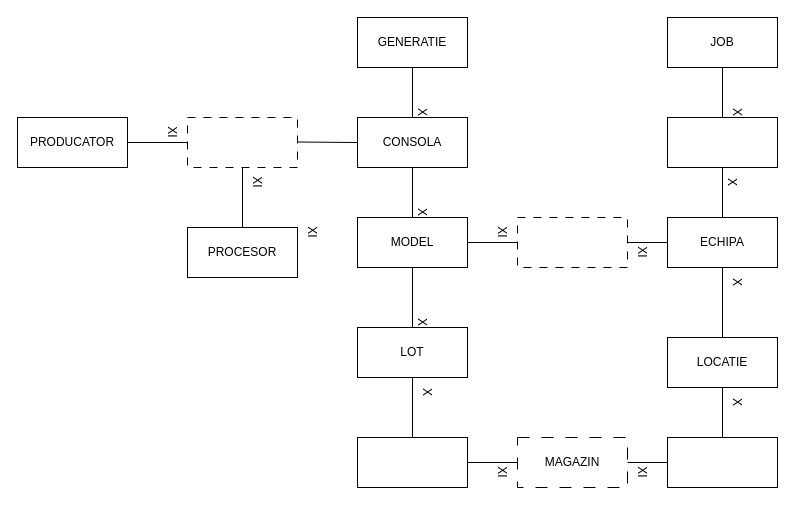
Image size: 795x505. Some labels were removed from this diagram. The shapes that lost their labels are listed below. From the top down, each one's centre as x and y in pixels, then its label:
At [242,142]: "CERERE".
At [722,142]: "ANGAJAT".
At [572,242]: "PLAN".
At [412,462]: "VANZATOR".
At [722,462]: "TARA".
